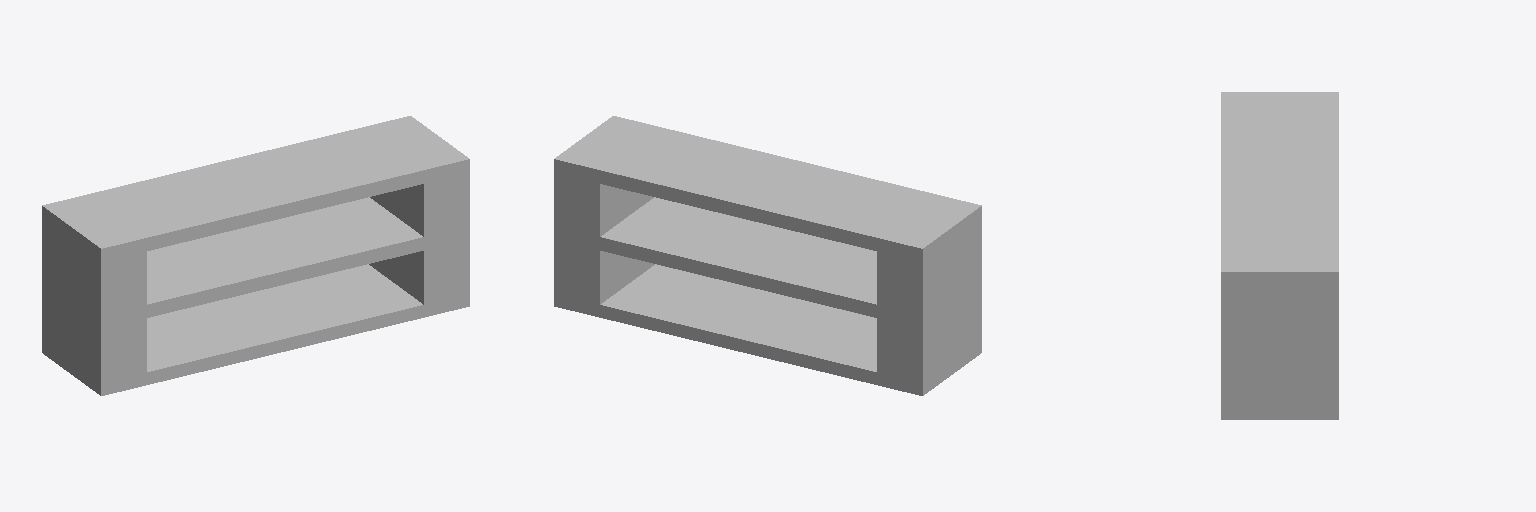
The model's file is shelf.obj.
3 renders of one model, left to right at view 1: azimuth 30°, elevation 25°; view 2: azimuth 150°, elevation 25°; view 3: azimuth 270°, elevation 25°, orthographic.
Visible parts, largest first — view 1: Shelves1:Mesh; view 2: Shelves1:Mesh; view 3: Shelves1:Mesh.
Boxes of the visible parts, x1,y1,x2,y2 form: Shelves1:Mesh: [42, 116, 469, 395]; Shelves1:Mesh: [554, 116, 981, 395]; Shelves1:Mesh: [1221, 92, 1338, 419].
Size of the model in its own units: 7.83 by 2.99 by 2.18.